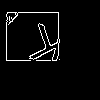K: (24, 23, 69, 76)
